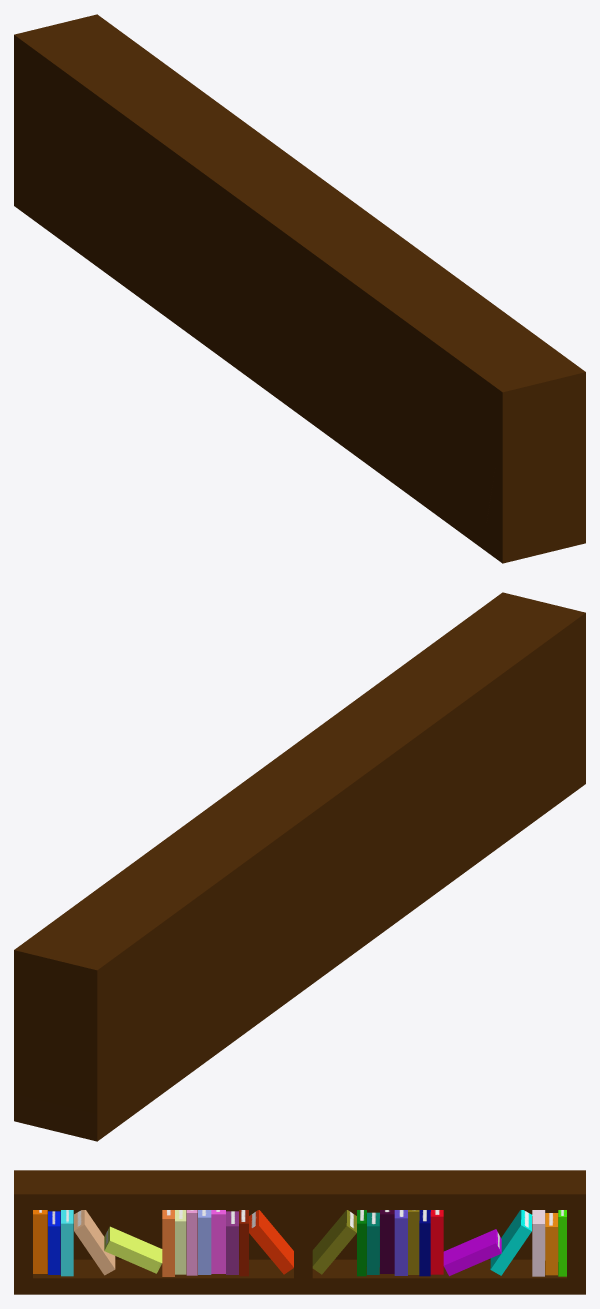
Rendered from hondanaYoko.fbx.
3 renders of one model, top to bottom at view 1: azimuth 30°, elevation 25°; view 2: azimuth 150°, elevation 25°; view 3: azimuth 270°, elevation 25°, orthographic. The views are drawn at different scales.
Visible parts, largest first — view 1: Cube.016; view 2: Cube.016; view 3: Cube.016.
Part boxes in pixels (<box>): Cube.016: <box>14,14,585,563</box>; Cube.016: <box>14,592,585,1141</box>; Cube.016: <box>14,1170,585,1294</box>.
Bounding box in the file's own units: 200 × 393 × 2032.
